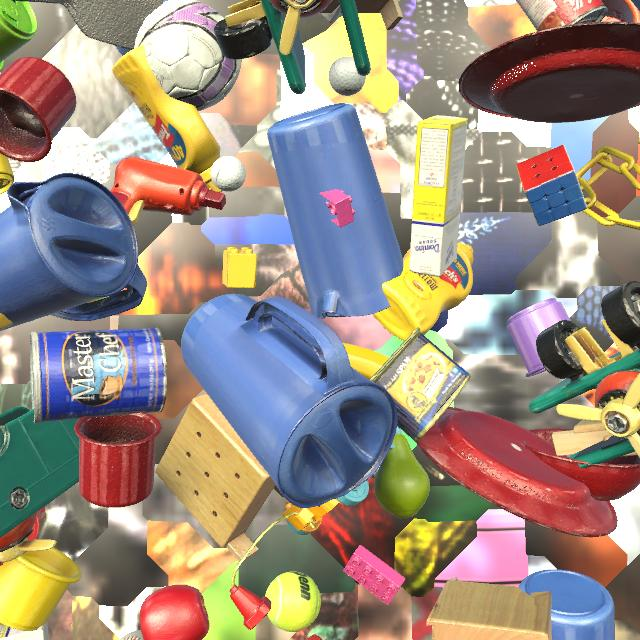ycb_002_master_chef_can: (30, 327, 167, 424)
ycb_003_cracker_box: (306, 634, 323, 640)
ycb_004_sugar_box: (409, 115, 468, 277), (0, 621, 50, 640), (320, 5, 343, 23)
ycb_005_tomato_soup_can: (516, 0, 608, 31)
ycb_006_mustard_bottle: (112, 45, 222, 192), (372, 242, 473, 341)
ycb_009_gelatin_box: (37, 506, 46, 523)
ycb_010_potted_meat_can: (370, 327, 471, 441)
ycb_011_banana: (0, 296, 109, 330), (343, 343, 389, 380)
ycb_013_apple: (139, 584, 210, 640)
ycb_016_pear: (374, 433, 430, 519)
